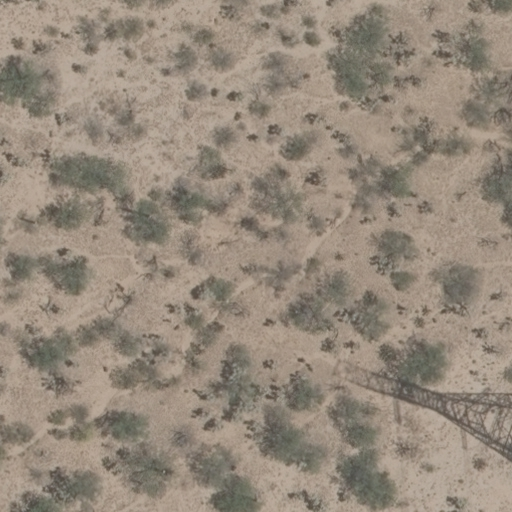TT: (424, 391, 512, 466)
